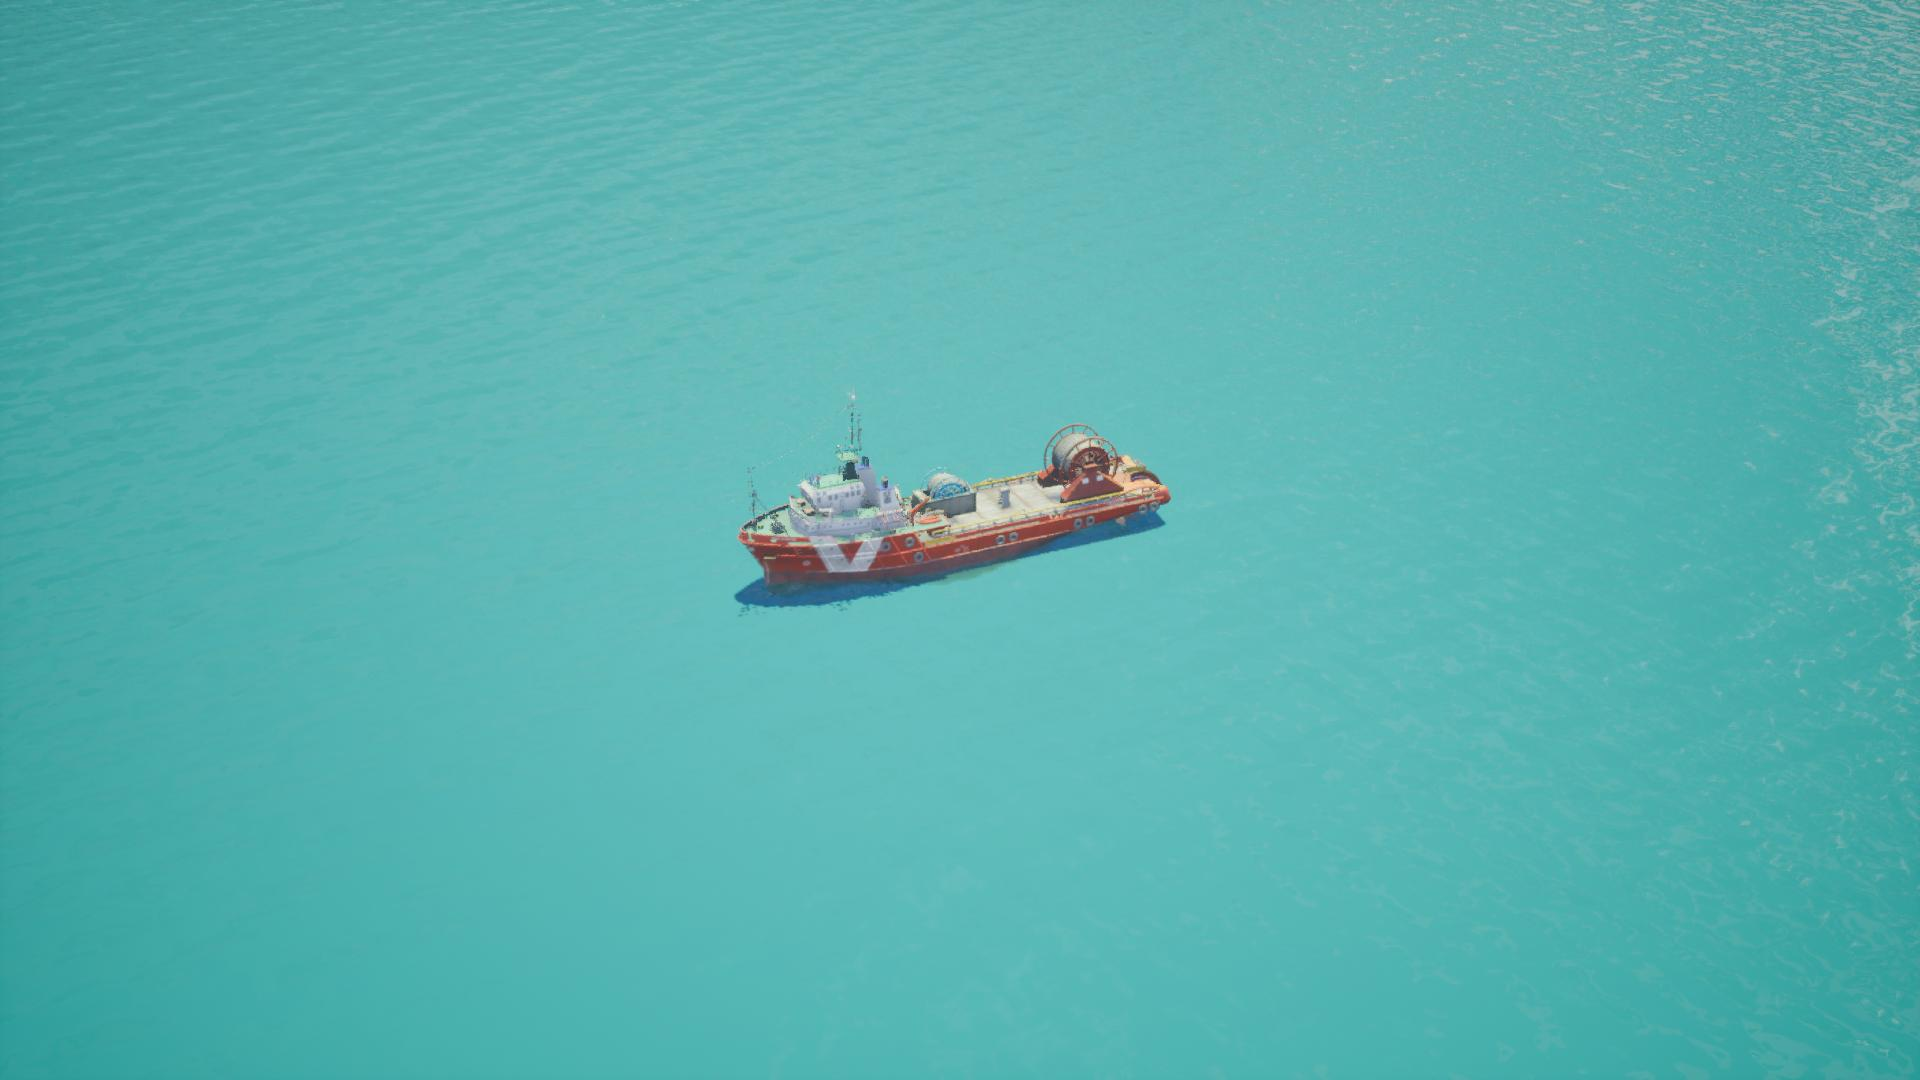Tug Boat: (762, 418, 1189, 638)
